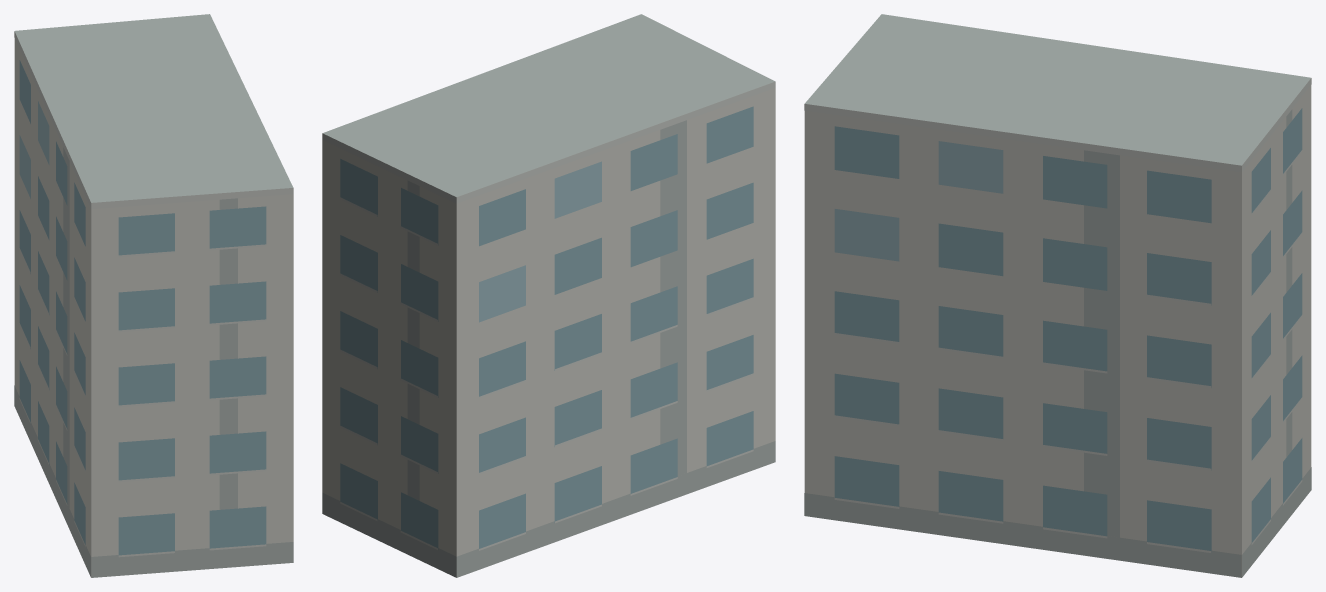
Rendered from survey-upis-32849525.glb.
The picture shows the model from 3 angles, left to right: view 1: azimuth 30°, elevation 25°; view 2: azimuth 150°, elevation 25°; view 3: azimuth 270°, elevation 25°; orthographic projection. The views are drawn at different scales.
Parts seen in each view (by area): view 1: survey-upis-32849525.tmp; view 2: survey-upis-32849525.tmp; view 3: survey-upis-32849525.tmp.
Boxes of the visible parts, left/top/right/bottom form: survey-upis-32849525.tmp: left=14, top=14, right=293, bottom=577; survey-upis-32849525.tmp: left=322, top=14, right=775, bottom=577; survey-upis-32849525.tmp: left=804, top=14, right=1311, bottom=577.
Bounding box in the file's own units: 11.37 × 14.4 × 16.06.
